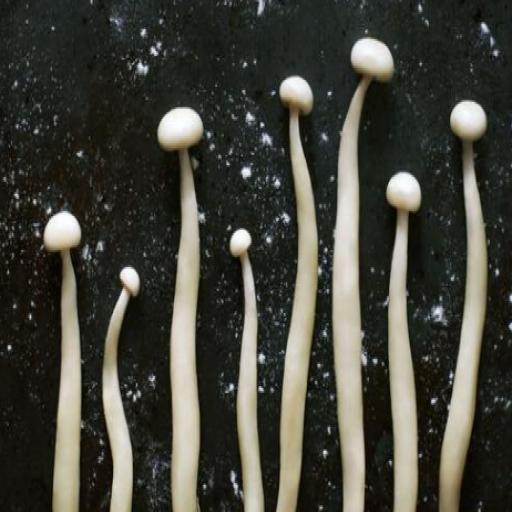Enoki Mushroom: (154, 62, 225, 512), (331, 13, 394, 512), (441, 61, 502, 512), (274, 40, 327, 512), (35, 179, 98, 507), (386, 160, 430, 512), (101, 255, 153, 512), (228, 216, 268, 512)
